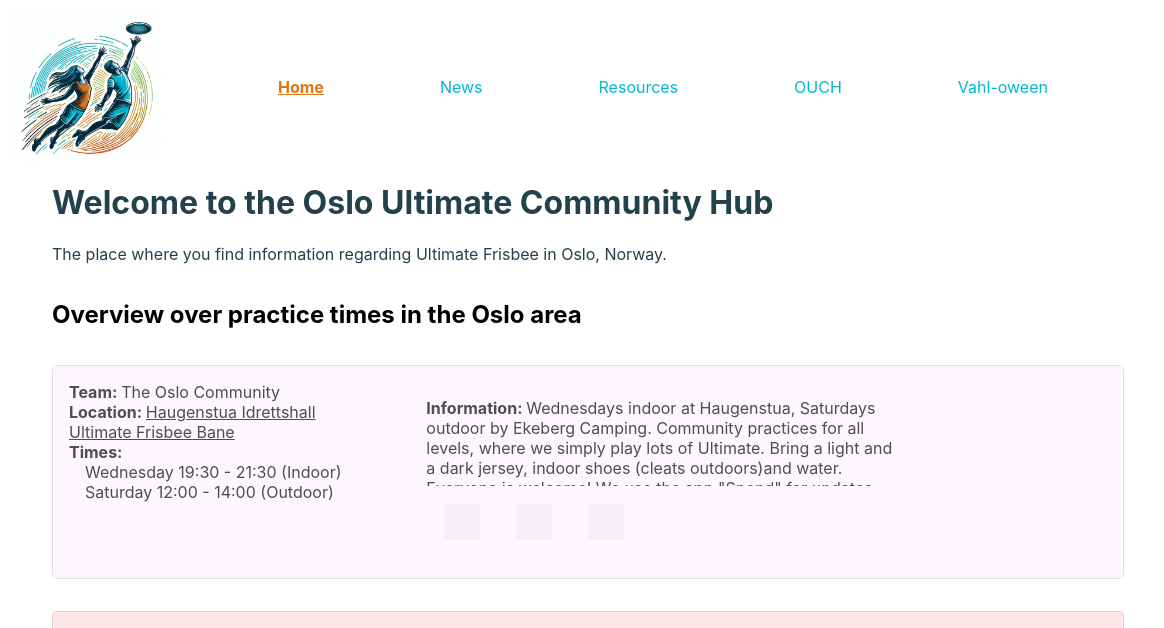
Test: Route smoke tests › navigates between pages when header links are clicked
Check: the heading "Welcome to the Oslo Ultimate Community Hub" is shown, box 52,183 -> 773,222
Click the link "News": [461, 87] box 440,77 -> 482,97
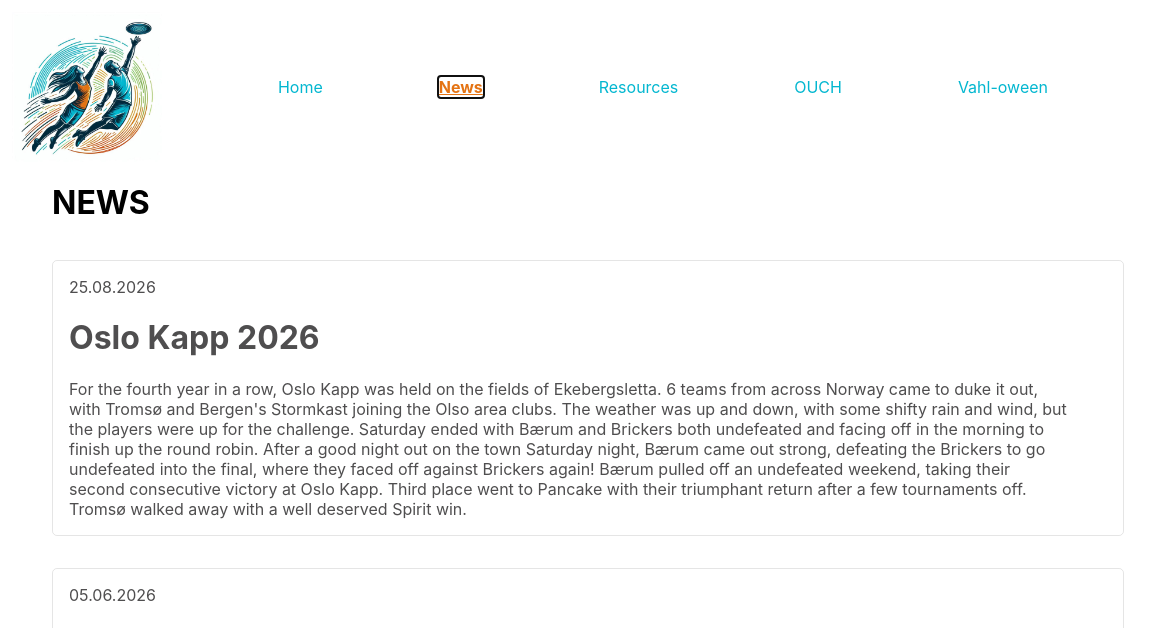
Check: the heading "NEWS" is shown, box 52,183 -> 150,222
Click the link "Resources": [638, 87] box 599,77 -> 678,97
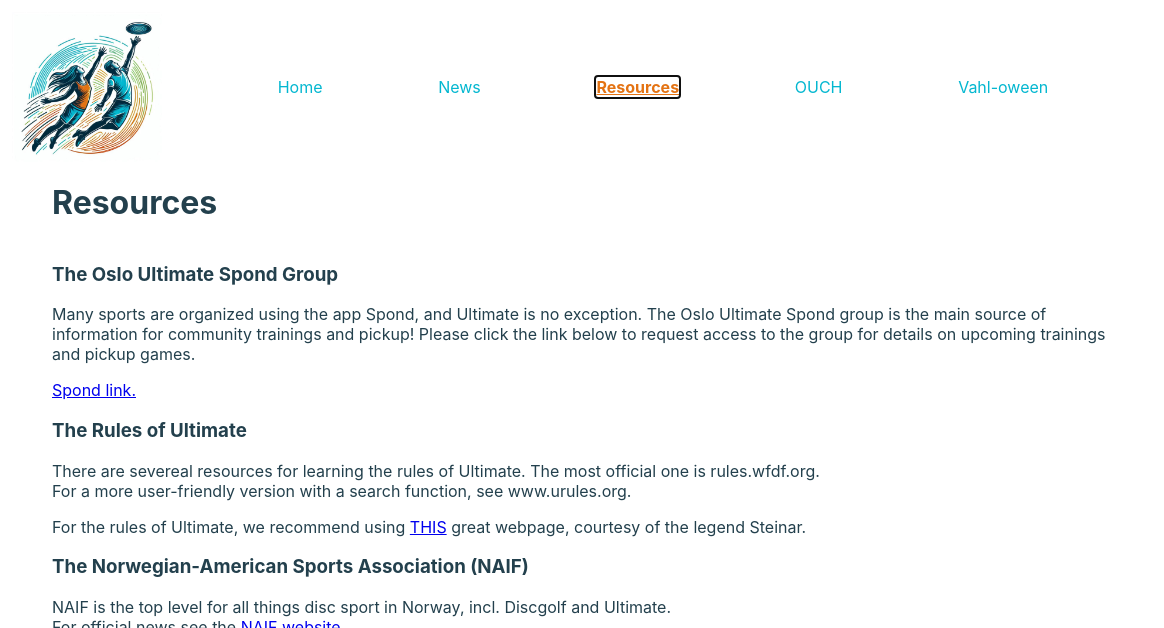
Check: the heading "Resources" is shown, box 52,183 -> 217,222
Click the link "OUCH": [819, 87] box 795,77 -> 842,97
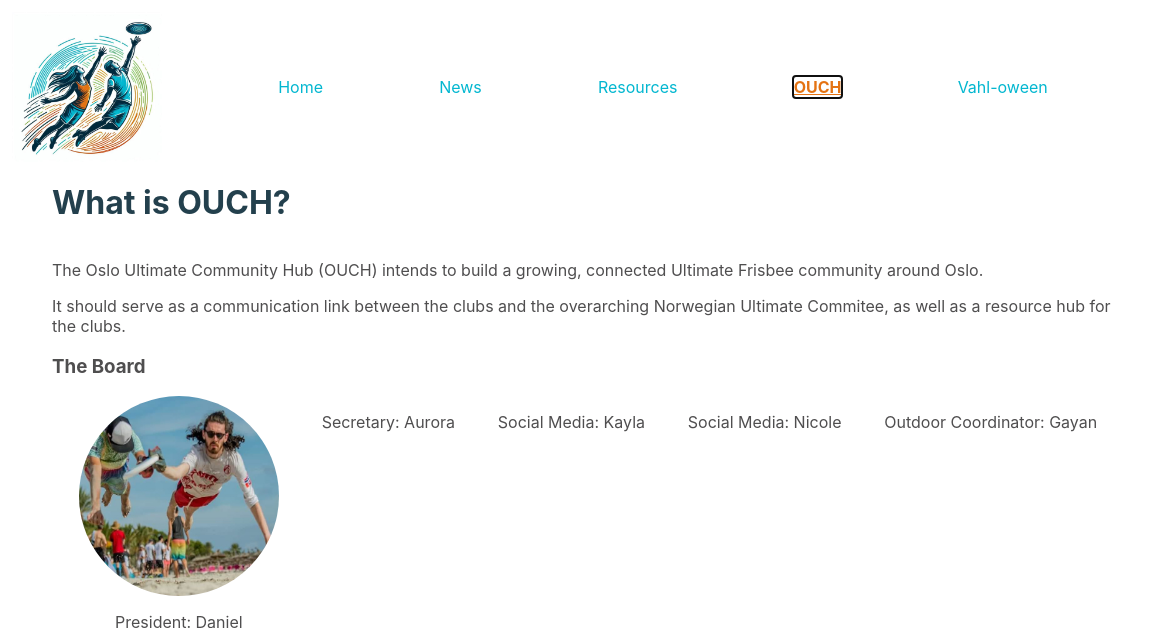
Check: the heading "What is OUCH?" is shown, box 52,183 -> 291,222
Click the link "Home": [301, 87] box 278,77 -> 323,97
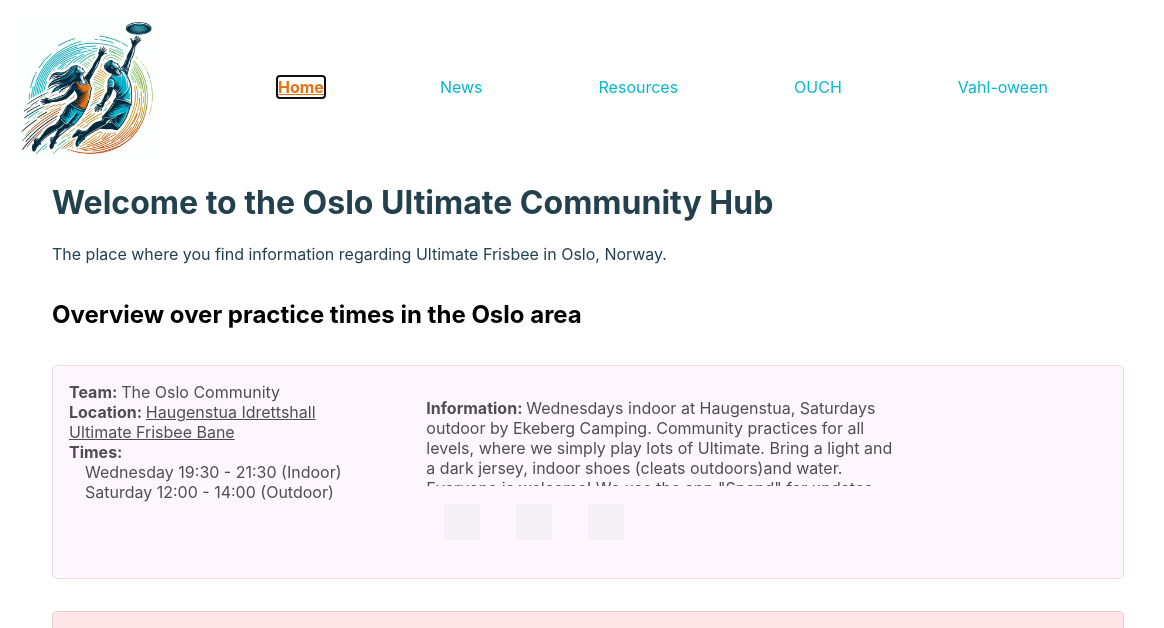
Check: the heading "Welcome to the Oslo Ultimate Community Hub" is shown, box 52,183 -> 773,222
